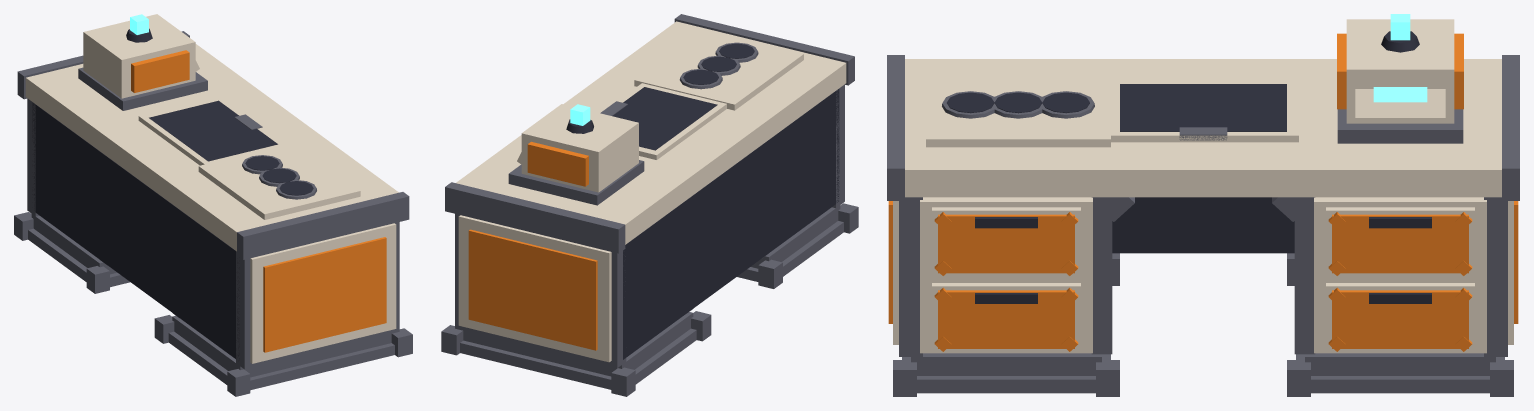
The model's file is asset.glb.
The picture shows the model from 3 angles, left to right: view 1: azimuth 30°, elevation 25°; view 2: azimuth 150°, elevation 25°; view 3: azimuth 270°, elevation 25°; orthographic projection. The views are drawn at different scales.
Parts seen in each view (by area): view 1: Mesh_BackModestyPanel, Mesh_WorktopSlab, Mesh_EndPanelOrange_L, Mesh_SampleTrayRim, Mesh_EndPanelIvory_L, Mesh_WorktopEnd_L, Mesh_AnalyzerHousing, Mesh_TestPadMat, Mesh_PlinthLeftBottom, Mesh_OuterFrame_L, Mesh_PlinthLeftMain, Mesh_AnalyzerCheek_L (+14 smaller); view 2: Mesh_BackModestyPanel, Mesh_WorktopSlab, Mesh_EndPanelOrange_R, Mesh_EndPanelIvory_R, Mesh_SampleTrayRim, Mesh_WorktopEnd_R, Mesh_AnalyzerHousing, Mesh_TestPadMat, Mesh_PlinthRightBottom, Mesh_PlinthRightMain, Mesh_OuterFrame_R, Mesh_AnalyzerCheek_R (+15 smaller); view 3: Mesh_WorktopSlab, Mesh_SampleTrayRim, Mesh_BackModestyPanel, Mesh_AnalyzerHousing, Mesh_TestPadMat, Mesh_Drawer_L_Upper_Face, Mesh_Drawer_R_Upper_Face, Mesh_DrawerSurround_L, Mesh_DrawerSurround_R, Mesh_Drawer_L_Lower_Face, Mesh_Drawer_R_Lower_Face, Mesh_PlinthLeftMain (+36 smaller).
Part boxes in pixels (x1=…): Mesh_BackModestyPanel: x1=32, y1=102, x2=239, y2=359; Mesh_WorktopSlab: x1=25, y1=44, x2=398, y2=251; Mesh_EndPanelOrange_L: x1=263, y1=237, x2=386, y2=352; Mesh_SampleTrayRim: x1=198, y1=142, x2=360, y2=219; Mesh_EndPanelIvory_L: x1=250, y1=223, x2=396, y2=363; Mesh_WorktopEnd_L: x1=237, y1=192, x2=409, y2=259; Mesh_AnalyzerHousing: x1=83, y1=14, x2=195, y2=98; Mesh_TestPadMat: x1=149, y1=100, x2=277, y2=161; Mesh_PlinthLeftBottom: x1=168, y1=331, x2=394, y2=390; Mesh_OuterFrame_L: x1=236, y1=222, x2=399, y2=369; Mesh_PlinthLeftMain: x1=172, y1=315, x2=391, y2=377; Mesh_AnalyzerCheek_L: x1=131, y1=50, x2=189, y2=92; Mesh_BackModestyPanel: x1=623, y1=89, x2=839, y2=359; Mesh_WorktopSlab: x1=456, y1=21, x2=846, y2=244; Mesh_EndPanelOrange_R: x1=468, y1=229, x2=597, y2=350; Mesh_EndPanelIvory_R: x1=458, y1=215, x2=611, y2=362; Mesh_SampleTrayRim: x1=634, y1=29, x2=803, y2=110; Mesh_WorktopEnd_R: x1=445, y1=182, x2=625, y2=253; Mesh_AnalyzerHousing: x1=521, y1=104, x2=638, y2=192; Mesh_TestPadMat: x1=612, y1=87, x2=717, y2=150; Mesh_PlinthRightBottom: x1=460, y1=328, x2=696, y2=389; Mesh_PlinthRightMain: x1=463, y1=312, x2=693, y2=376; Mesh_OuterFrame_R: x1=455, y1=214, x2=626, y2=368; Mesh_AnalyzerCheek_R: x1=527, y1=141, x2=588, y2=186; Mesh_WorktopSlab: x1=905, y1=59, x2=1501, y2=197; Mesh_SampleTrayRim: x1=926, y1=73, x2=1110, y2=147; Mesh_BackModestyPanel: x1=1112, y1=197, x2=1294, y2=253; Mesh_AnalyzerHousing: x1=1346, y1=19, x2=1454, y2=123; Mesh_TestPadMat: x1=1120, y1=84, x2=1286, y2=131; Mesh_Drawer_L_Upper_Face: x1=938, y1=214, x2=1074, y2=273; Mesh_Drawer_R_Upper_Face: x1=1332, y1=214, x2=1468, y2=273; Mesh_DrawerSurround_L: x1=920, y1=197, x2=1092, y2=353; Mesh_DrawerSurround_R: x1=1314, y1=197, x2=1486, y2=353; Mesh_Drawer_L_Lower_Face: x1=938, y1=290, x2=1074, y2=348; Mesh_Drawer_R_Lower_Face: x1=1332, y1=290, x2=1468, y2=348; Mesh_PlinthLeftMain: x1=911, y1=353, x2=1101, y2=375.
Size of the model in its own units: 0.9685 by 1.17 by 2.12.
